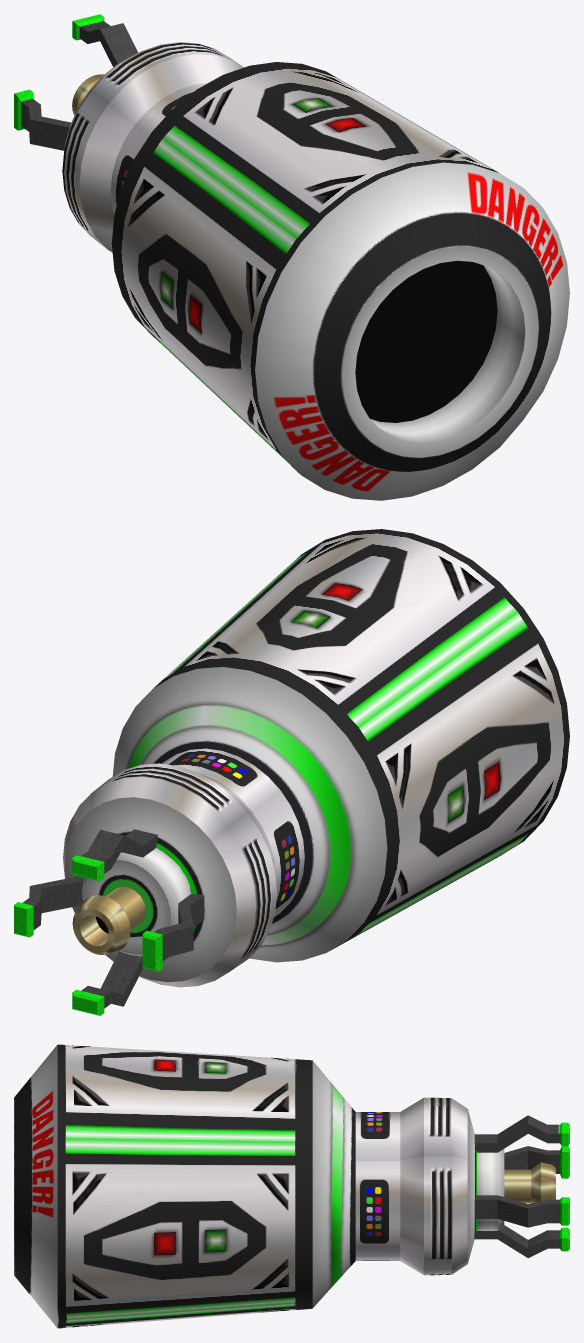
Rendered from multi_tool.obj.
3 renders of one model, top to bottom at view 1: azimuth 30°, elevation 25°; view 2: azimuth 150°, elevation 25°; view 3: azimuth 270°, elevation 25°, orthographic. The views are drawn at different scales.
Visible parts, largest first — view 1: Cylinder_Cylinder.003; view 2: Cylinder_Cylinder.003; view 3: Cylinder_Cylinder.003.
Part boxes in pixels (left/top/right/bottom): Cylinder_Cylinder.003: left=14, top=14, right=569, bottom=500; Cylinder_Cylinder.003: left=14, top=529, right=569, bottom=1015; Cylinder_Cylinder.003: left=14, top=1044, right=569, bottom=1328.
Size of the model in its own units: 0.457 by 0.457 by 0.8936.
